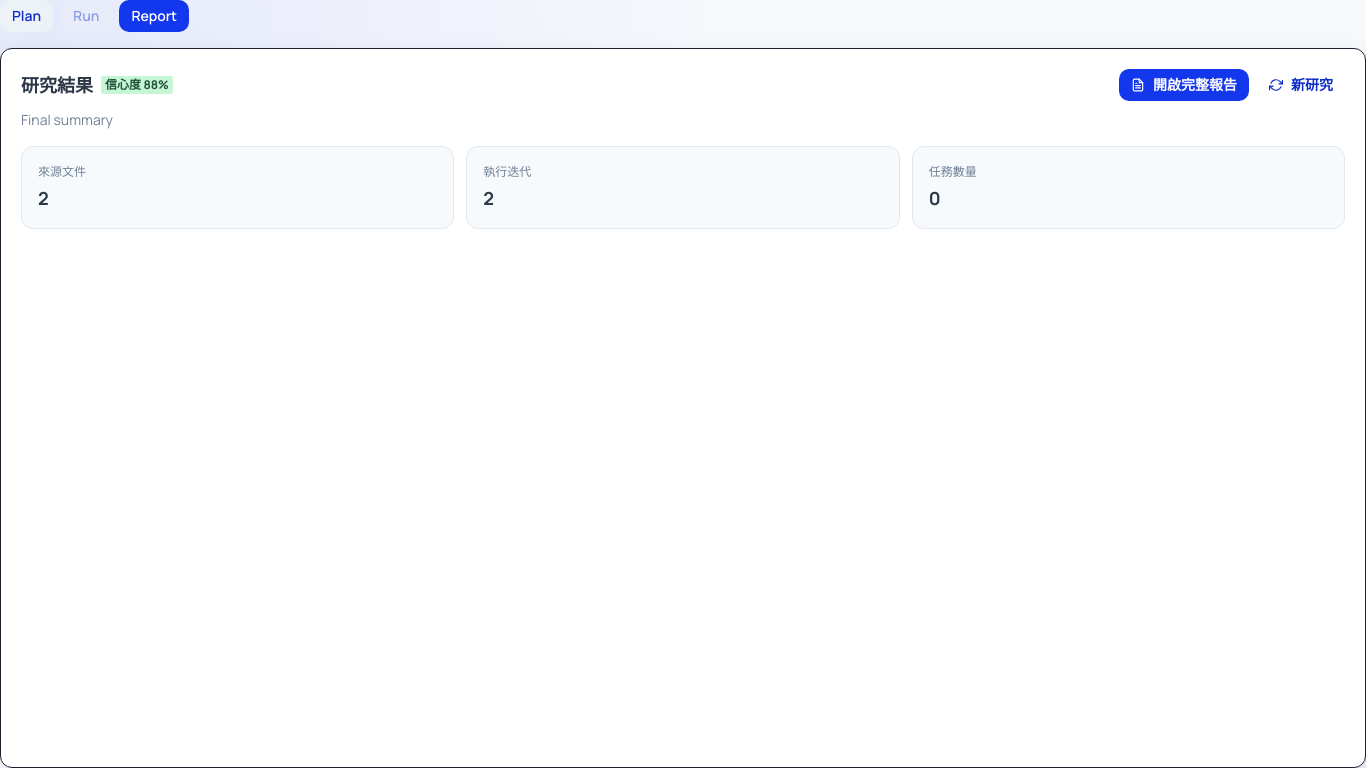
DeepResearchPanel › switches to report view and opens the report drawer
The image size is (1366, 768).
Expected: the text "研究結果" is shown, [21,72,93,98]
Click the button "開啟完整報告": (1184, 85) [1119,69,1249,101]
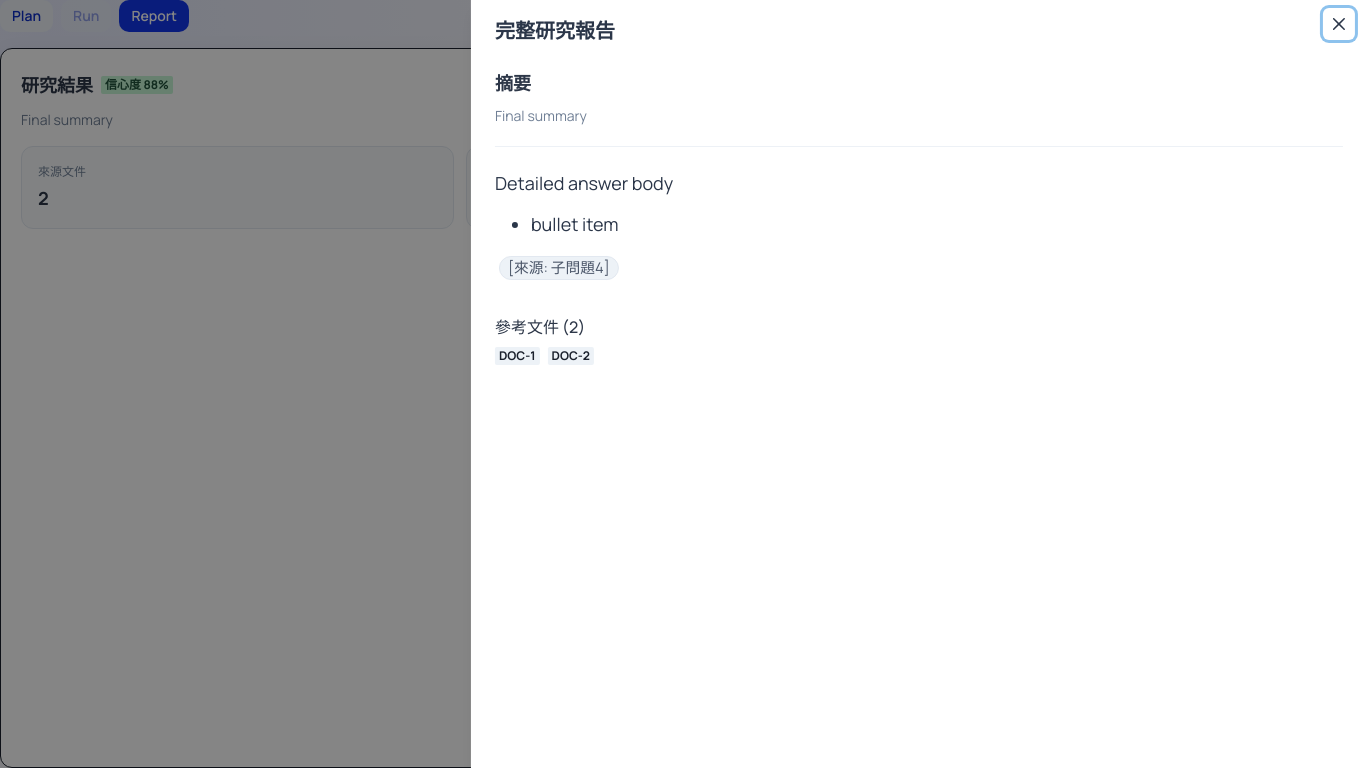
Expected: the text "完整研究報告" is shown, [495,17,615,44]
Expected: the list is shown, [531,212,619,236]
Expected: the text with test id "markdown-source-token" reads "[來源: 子問題4]", [508,257,610,277]
